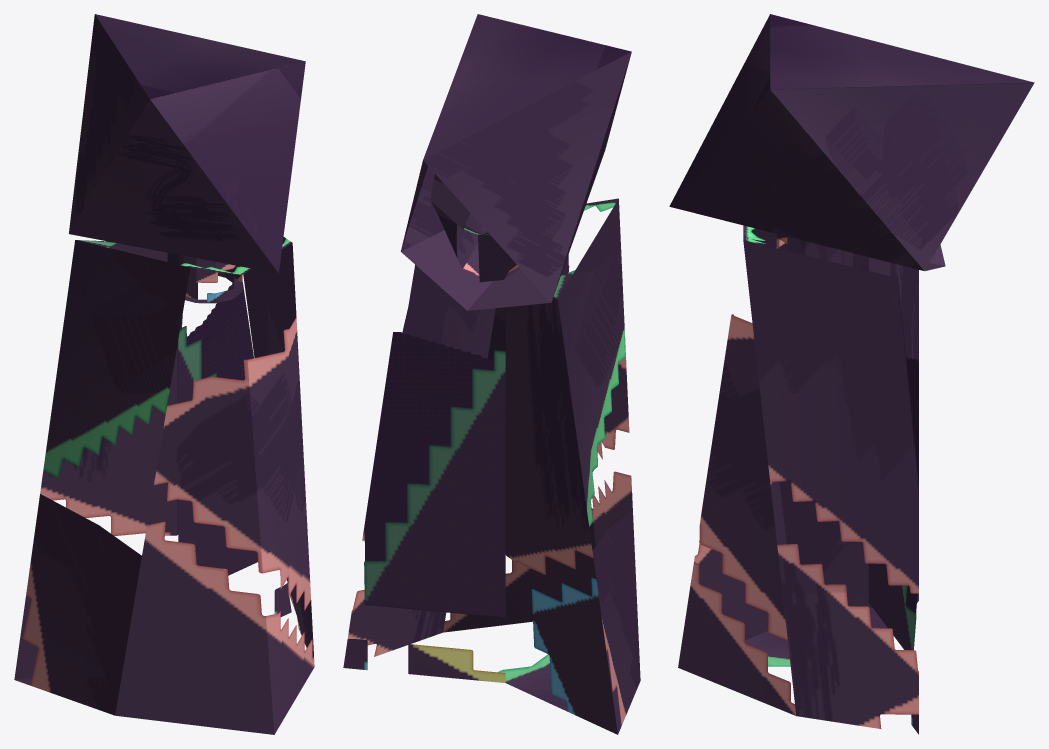
3 views of the same model, side by side, from view 1: azimuth 30°, elevation 25°; view 2: azimuth 150°, elevation 25°; view 3: azimuth 270°, elevation 25° (orthographic).
Parts seen in each view (by area): view 1: body, hood, neck; view 2: body, hood, head; view 3: body, hood, neck.
Part boxes in pixels (x1,y1,x2,y2): body: (14, 237, 314, 734); hood: (69, 14, 305, 273); neck: (167, 252, 242, 303); body: (343, 198, 640, 734); hood: (400, 14, 631, 310); head: (430, 174, 519, 282); body: (678, 225, 918, 734); hood: (669, 14, 1034, 271); neck: (776, 234, 853, 266).
Size of the model in its own units: 178 by 381 by 205.
4 materials, 4 textured.
